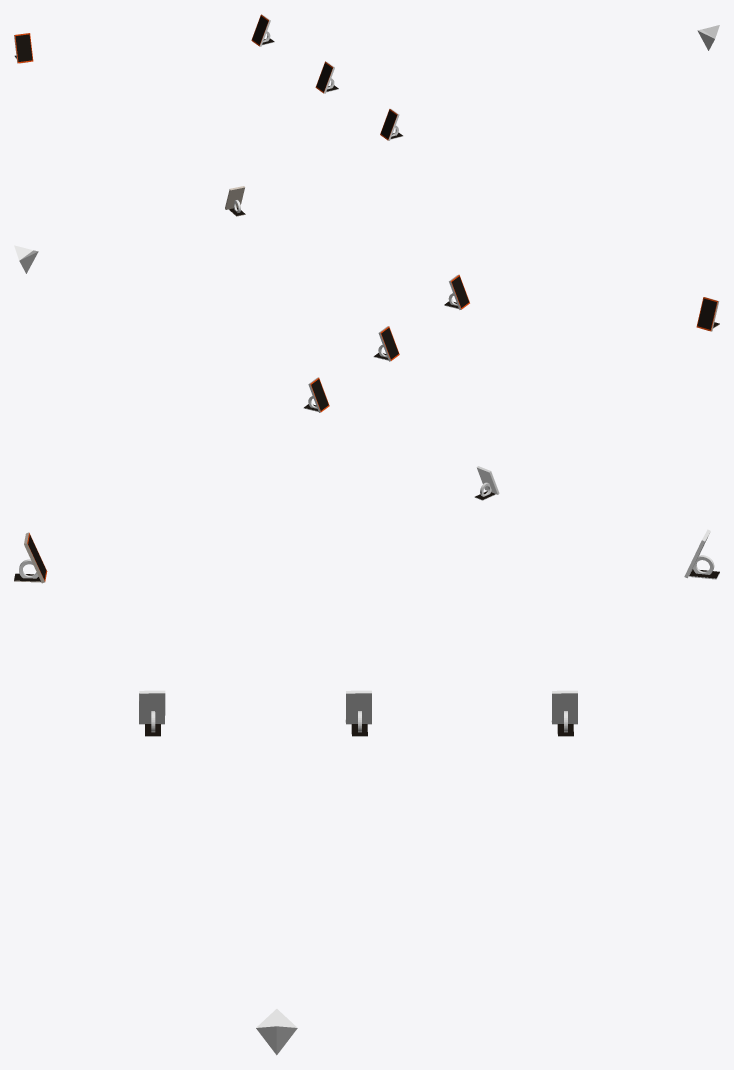
Rendered from pocter.fbx.
3 views of the same model, one above another, from view 1: azimuth 30°, elevation 25°; view 2: azimuth 150°, elevation 25°; view 3: azimuth 270°, elevation 25° (orthographic). The views are drawn at different scales.
Visible parts, largest first — view 1: Cube.036, Cube.441, Cube.453, Cube.456; view 2: Cube.058, Cube.441, Cube.453, Cube.456; view 3: Cube.446, Cube.456, Cube.453, Cube.441.
Part boxes in pixels (box(x1,y1,x2,y2)): Cube.036: box(14, 33, 33, 63); Cube.441: box(251, 14, 270, 46); Cube.453: box(315, 61, 334, 93); Cube.456: box(380, 108, 399, 140); Cube.058: box(696, 297, 719, 331); Cube.441: box(308, 377, 329, 412); Cube.453: box(378, 326, 399, 361); Cube.456: box(449, 274, 469, 309); Cube.446: box(256, 1009, 297, 1055); Cube.456: box(139, 690, 165, 724); Cube.453: box(345, 690, 371, 724); Cube.441: box(551, 690, 577, 724).
Bounding box in the file's own units: 5047 × 460 × 3354.
